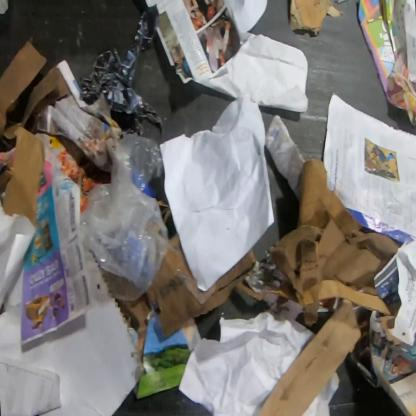cardboard: (270, 157, 402, 299), (255, 298, 364, 415), (0, 39, 73, 153), (0, 125, 45, 228), (288, 0, 346, 36)
soft_plastic: (78, 132, 169, 300)
